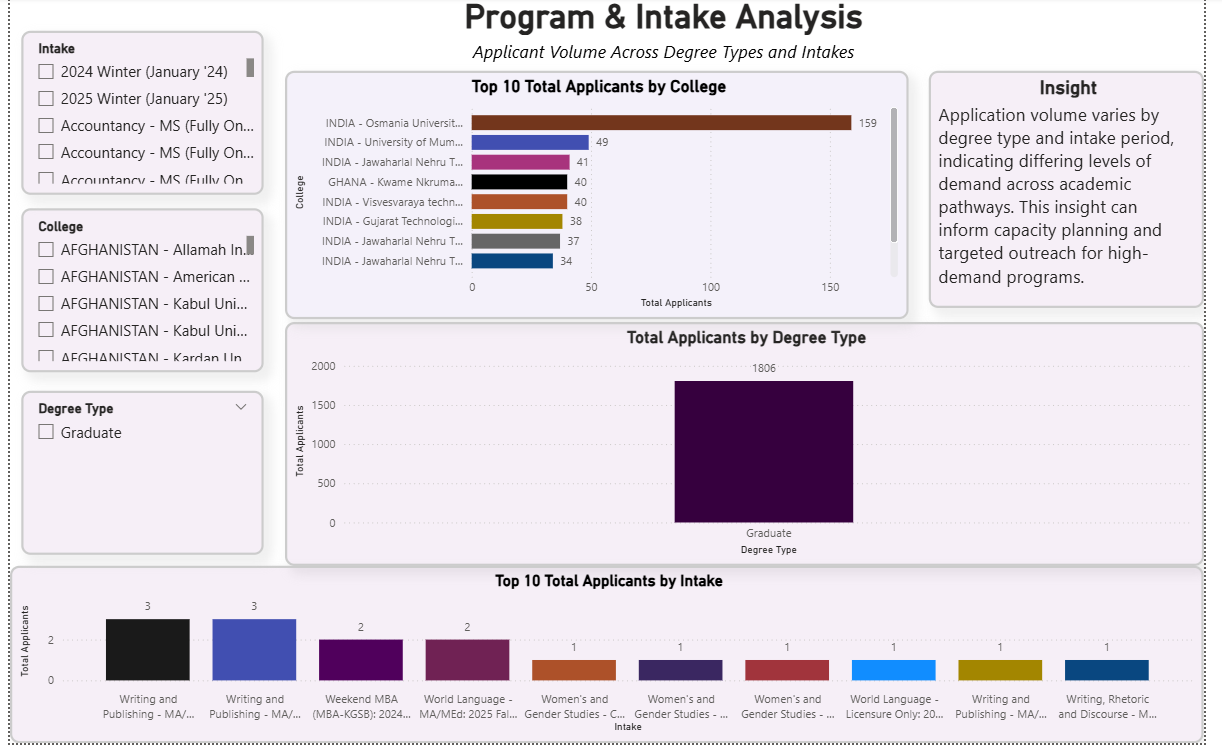

What the dashboard file says about the page in this screenshot:
{"tool":"powerbi","page":{"name":"Program & Intake Analysis","canvas":[1280,800],"ordinal":1},"visuals":[{"type":"clusteredColumnChart","fields":{"Category":["Week3_Analysis_View.Degree_Type-2"],"Y":["Week3_Analysis_View.Total Applicants"]},"box":[294.9,348.5,985.3,261.4],"z":0},{"type":"barChart","title":"Top 10 Total Applicants by College","fields":{"Category":["Week3_Analysis_View.College"],"Y":["Week3_Analysis_View.Total Applicants"]},"box":[294.9,79.1,668.9,266.8],"z":1000},{"type":"columnChart","title":"Top 10 Total Applicants by Intake","fields":{"Category":["Week3_Analysis_View.Intake"],"Y":["Week3_Analysis_View.Total Applicants"]},"box":[0,609.9,1280.2,190.3],"z":2000},{"type":"slicer","fields":{"Values":["Week3_Analysis_View.College"]},"box":[12.1,226.5,260.1,175.6],"z":3000},{"type":"slicer","fields":{"Values":["Week3_Analysis_View.Intake"]},"box":[12.1,36.2,260.1,175.6],"z":4000},{"type":"slicer","fields":{"Values":["Week3_Analysis_View.Degree_Type-2"]},"box":[12.1,422.3,260.1,175.6],"z":5000},{"type":"textbox","title":"Insight","box":[985.3,79.1,294.9,254.7],"z":6000},{"type":"textbox","title":"Program & Intake Analysis","box":[313.7,0,774.8,71],"z":7000}]}

Visuals, with their boxes in screenshot pixels (x1, y1, x2, y2), scaled from the page's 1280x800 canvas onto the 1222x751 screenshot:
clusteredColumnChart - Week3_Analysis_View.Degree_Type-2 x Week3_Analysis_View.Total Applicants: [x1=282, y1=327, x2=1221, y2=573]
"Top 10 Total Applicants by College" barChart: [x1=282, y1=74, x2=920, y2=325]
"Top 10 Total Applicants by Intake" columnChart: [x1=0, y1=573, x2=1221, y2=750]
slicer - Week3_Analysis_View.College: [x1=12, y1=213, x2=260, y2=377]
slicer - Week3_Analysis_View.Intake: [x1=12, y1=34, x2=260, y2=199]
slicer - Week3_Analysis_View.Degree_Type-2: [x1=12, y1=396, x2=260, y2=561]
"Insight" textbox: [x1=941, y1=74, x2=1221, y2=313]
"Program & Intake Analysis" textbox: [x1=299, y1=0, x2=1039, y2=67]
